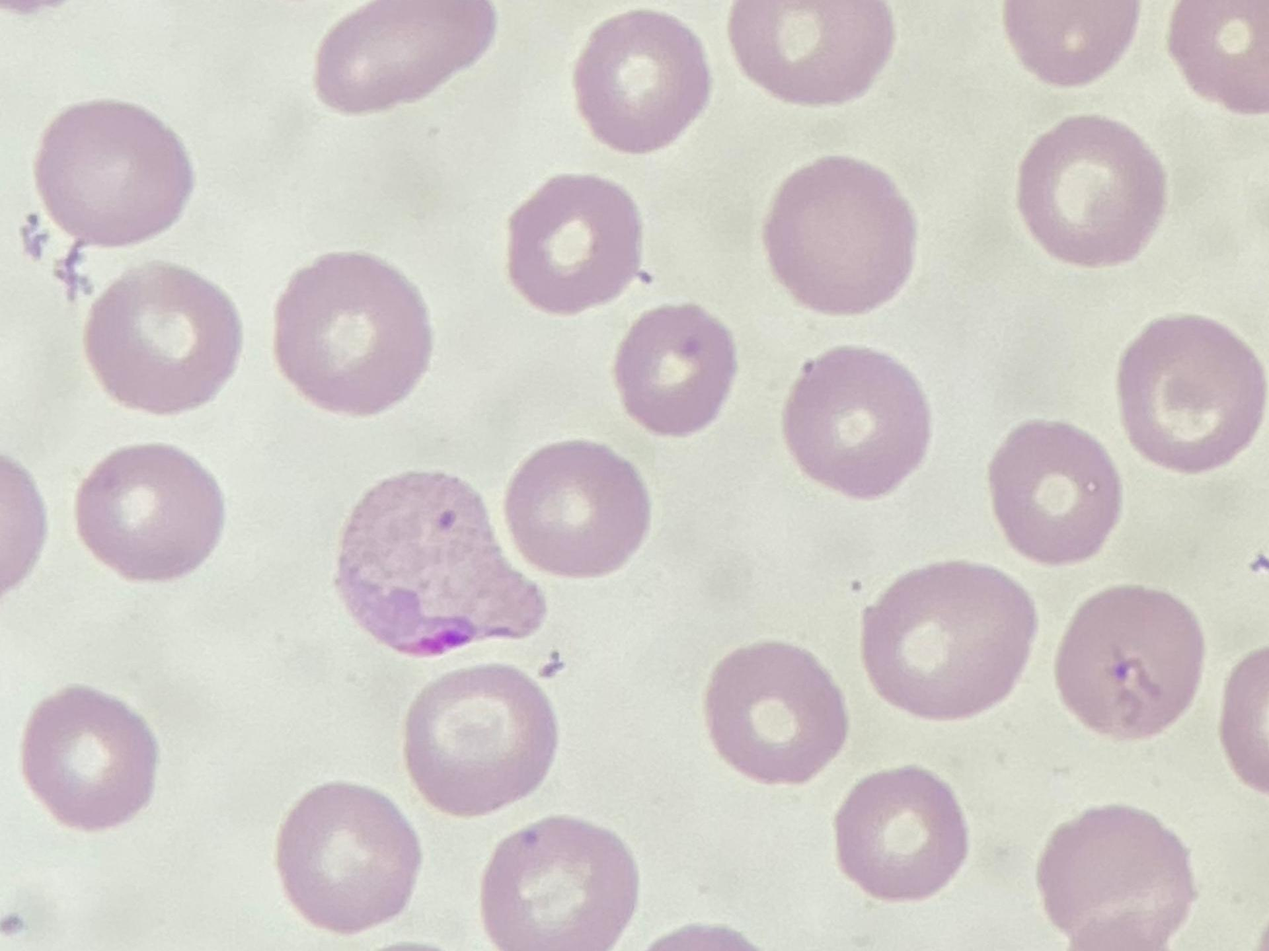Infected: (335, 470, 548, 658)
Uninfected: (866, 562, 1038, 718), (276, 250, 433, 419), (765, 156, 915, 312), (1119, 313, 1265, 473), (88, 261, 240, 411), (1041, 803, 1195, 951), (408, 665, 556, 817), (278, 783, 424, 936), (1018, 118, 1168, 266), (785, 347, 930, 500), (1056, 582, 1197, 738), (36, 104, 194, 242), (482, 815, 638, 951), (314, 0, 498, 114), (706, 643, 848, 784), (506, 443, 650, 580), (23, 684, 159, 829), (575, 14, 712, 155), (79, 445, 223, 579), (511, 174, 642, 315), (836, 764, 969, 902), (725, 0, 895, 106), (996, 420, 1119, 565), (615, 303, 734, 435), (1001, 0, 1140, 89)
